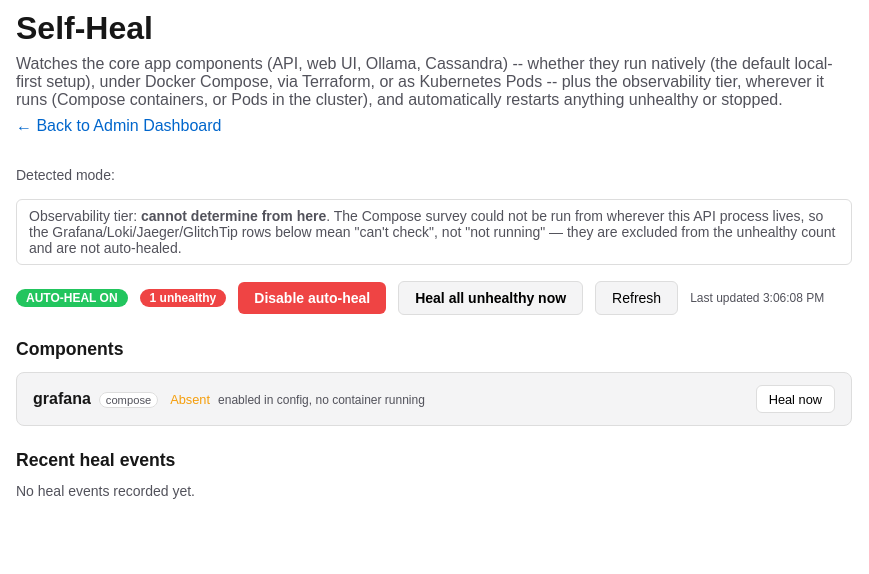
it: SelfHealPage › brings an absent-but-desired component up via "Heal now"
Click the button "Heal now": [795, 399] box [756,385,835,413]
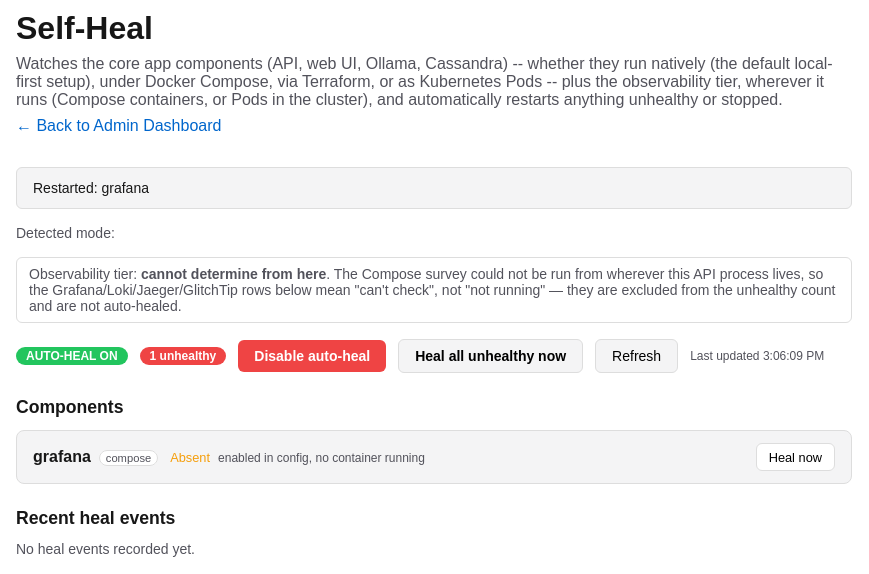
Expected: the text "Restarted: grafana" is shown, [16,167,852,209]
